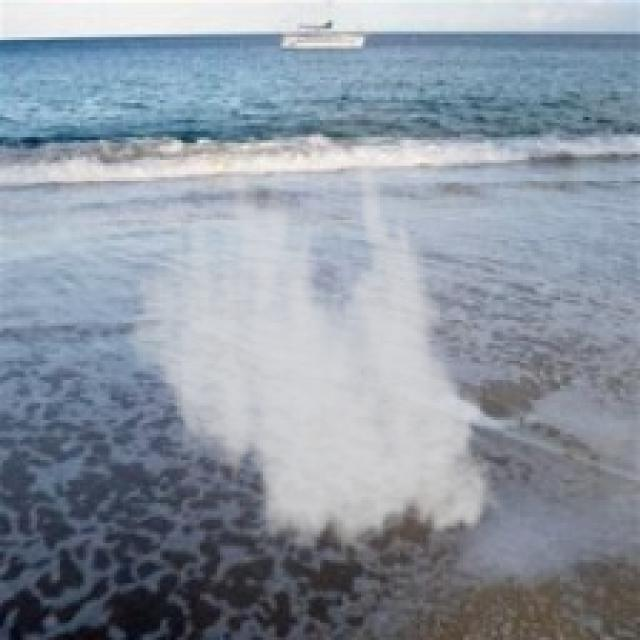smoke: (117, 157, 512, 566)
